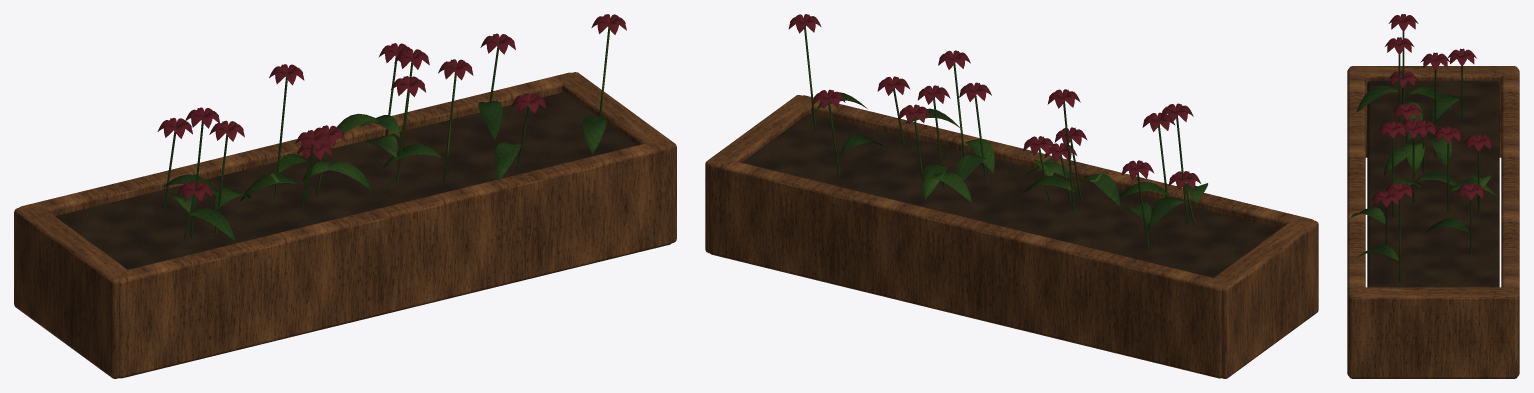
File: Flowerbed.fbx
3 renders of one model, left to right at view 1: azimuth 30°, elevation 25°; view 2: azimuth 150°, elevation 25°; view 3: azimuth 270°, elevation 25°, orthographic. The views are drawn at different scales.
Visible parts, largest first — view 1: Flowerbed_SmokedOak, Flowerbed_Soil, Flowerbed_Leaf, Flowerbed_BurgundyFabric; view 2: Flowerbed_SmokedOak, Flowerbed_Soil, Flowerbed_Leaf, Flowerbed_BurgundyFabric; view 3: Flowerbed_SmokedOak, Flowerbed_Soil, Flowerbed_Leaf, Flowerbed_BurgundyFabric.
Part boxes in pixels (x1,y1,x2,y2): Flowerbed_SmokedOak: (14, 72, 676, 378); Flowerbed_Soil: (55, 92, 637, 269); Flowerbed_Leaf: (163, 28, 609, 241); Flowerbed_BurgundyFabric: (157, 14, 626, 201); Flowerbed_SmokedOak: (705, 95, 1318, 378); Flowerbed_Soil: (741, 113, 1280, 277); Flowerbed_Leaf: (804, 26, 1207, 245); Flowerbed_BurgundyFabric: (788, 14, 1200, 190); Flowerbed_SmokedOak: (1347, 66, 1519, 378); Flowerbed_Soil: (1367, 80, 1499, 287); Flowerbed_Leaf: (1350, 31, 1499, 281); Flowerbed_BurgundyFabric: (1371, 14, 1493, 207).
Size of the model in its own units: 178 by 66.05 by 56.
